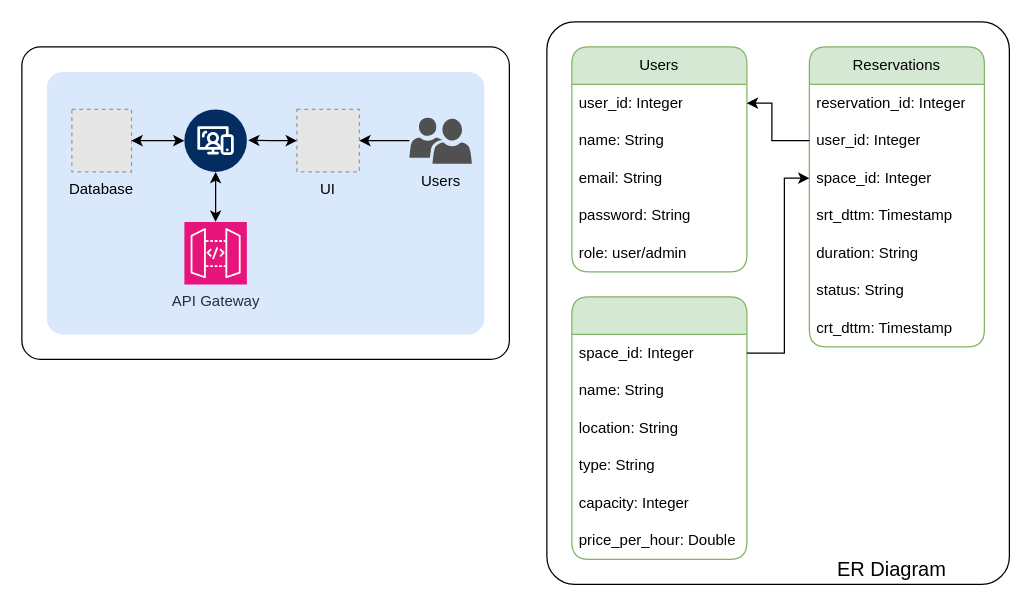
This 1031x606 diagram has some shape labels left out. Grey dashed boxes stand in for pictures. The shapes that lost their labels are listed below. From the top down, each one's box as (x1, y1, x2, y2) in pixels, then its label:
(183, 108, 247, 172): Server
(46, 71, 484, 334): Workflow
(571, 296, 747, 559): Spaces
